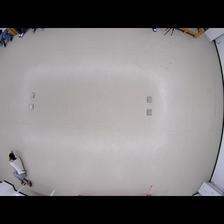fall: (7, 149, 33, 188)
